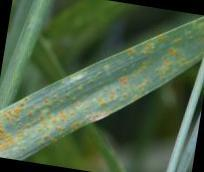Wheat: (2, 110, 31, 154), (128, 49, 182, 71), (37, 98, 67, 133), (119, 75, 147, 96), (94, 89, 117, 107)
